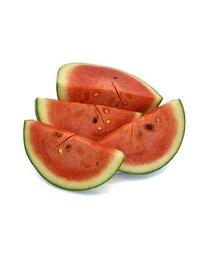watermelon: (22, 62, 186, 191)
